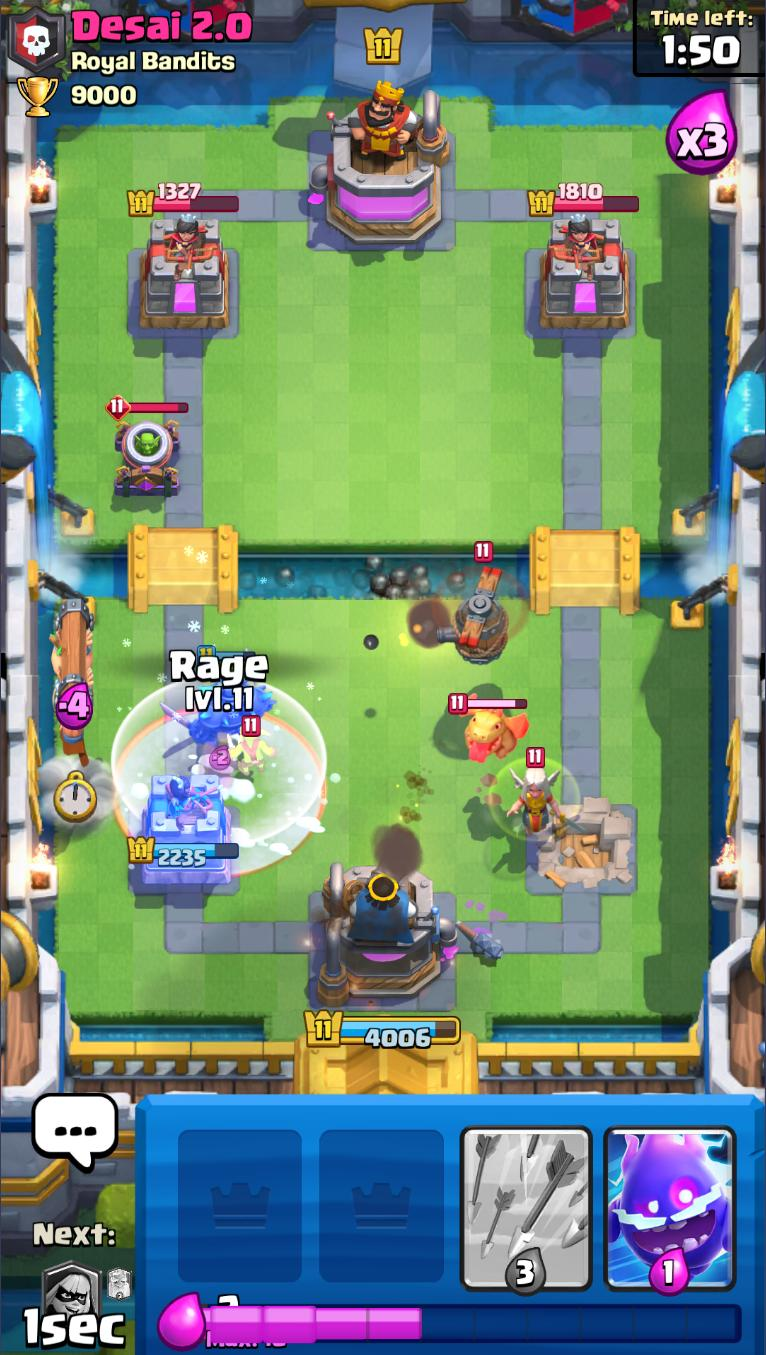ArrowDeck: (455, 1099, 598, 1295)
BabyDragon: (448, 690, 531, 766)
BanditNext: (41, 1262, 105, 1343)
ElectroSpiritDeck: (597, 1097, 742, 1298)
Elixir: (203, 1296, 744, 1351)
Empty: (166, 1096, 312, 1295), (310, 1095, 451, 1290)
EnemyTower: (135, 216, 234, 331), (537, 216, 633, 333)
EvoMortar: (104, 393, 189, 499)
FlyingMachine: (437, 540, 532, 669)
Freeze: (108, 705, 327, 876)
Goblin: (226, 717, 275, 775)
Healer: (492, 746, 580, 840)
KingTower: (307, 78, 453, 247)
MyBattleRam: (49, 598, 98, 769)
MyKingHP: (302, 1010, 462, 1053)
MyKingTower: (315, 859, 460, 1009)
MyPekka: (161, 645, 281, 747)
MyPrincessTower: (128, 772, 242, 890)
MyPrincessTowerBrocken: (526, 798, 641, 900)
MyPrincessTowerHP: (127, 836, 241, 869)
TowerPrincessHP: (528, 182, 640, 219), (128, 182, 241, 218)
